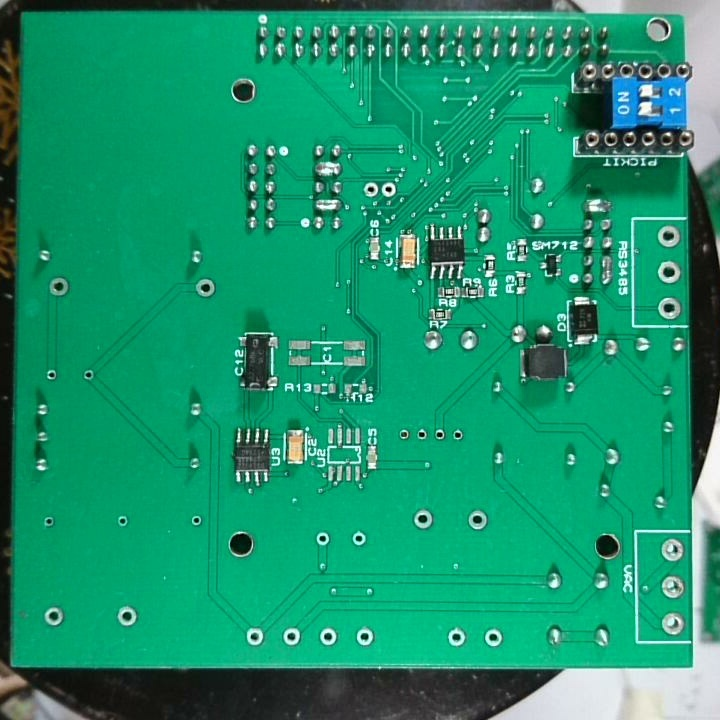F: (654, 223, 682, 250), (655, 258, 682, 286), (659, 573, 688, 599), (661, 536, 686, 563), (45, 273, 71, 298), (411, 507, 436, 532), (659, 610, 685, 634), (191, 277, 217, 300), (657, 295, 682, 318), (280, 624, 303, 648), (114, 604, 138, 627), (43, 605, 65, 630), (482, 626, 505, 649), (243, 626, 266, 649), (465, 509, 488, 532), (353, 625, 377, 646), (444, 627, 467, 648), (318, 626, 339, 649), (379, 178, 398, 202), (361, 178, 379, 200), (78, 366, 97, 386), (351, 529, 369, 549), (313, 529, 331, 548), (42, 366, 61, 384), (396, 426, 413, 445), (114, 512, 129, 530), (42, 513, 57, 530), (450, 426, 465, 443), (188, 511, 202, 529), (431, 426, 445, 443), (414, 425, 427, 443)
P: (312, 158, 343, 177), (582, 197, 614, 214), (599, 253, 614, 289), (312, 196, 341, 213)
